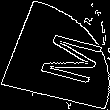M_W: (16, 25, 94, 85)
